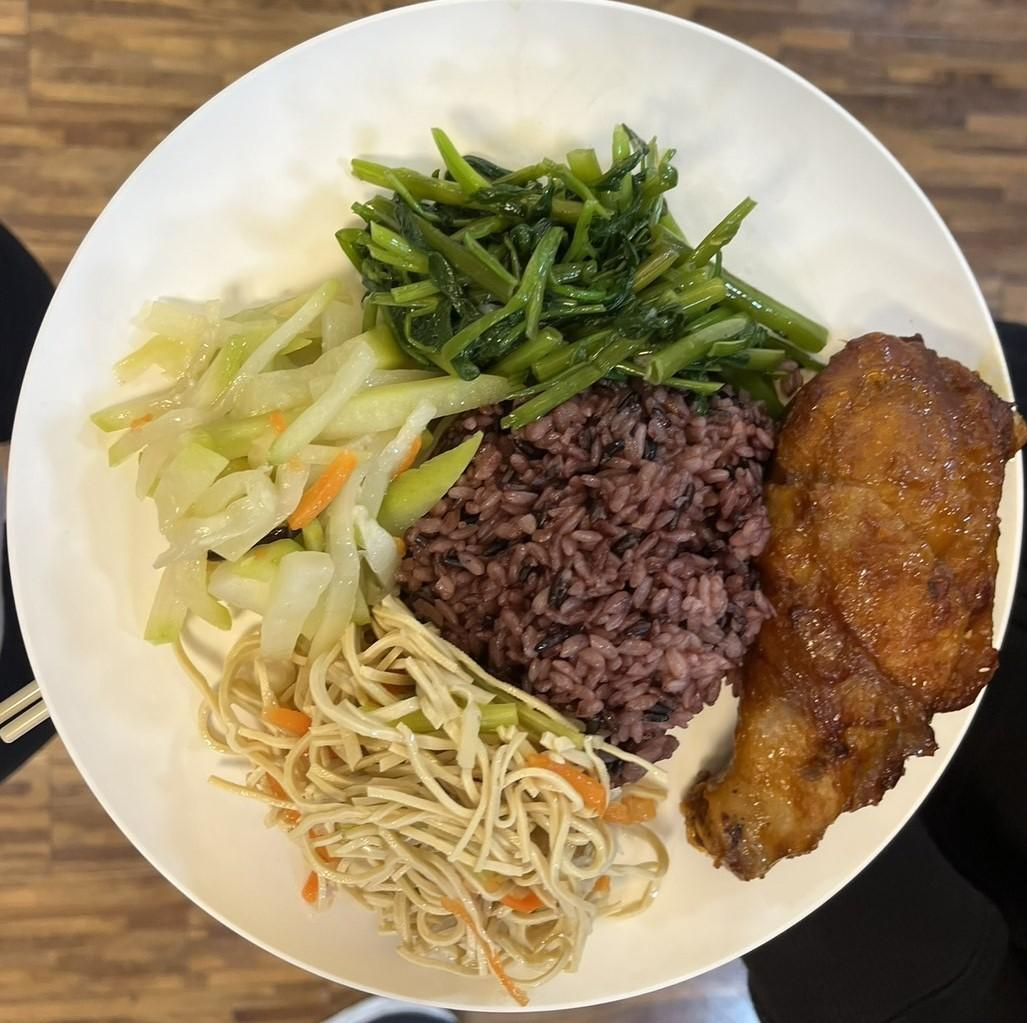big fried chicken leg: (1, 5, 1027, 1023)
braised fish: (392, 370, 773, 757)
braised fish fillet: (198, 630, 676, 989), (106, 288, 450, 665), (350, 135, 824, 401)
braised pork: (682, 338, 1018, 873)
